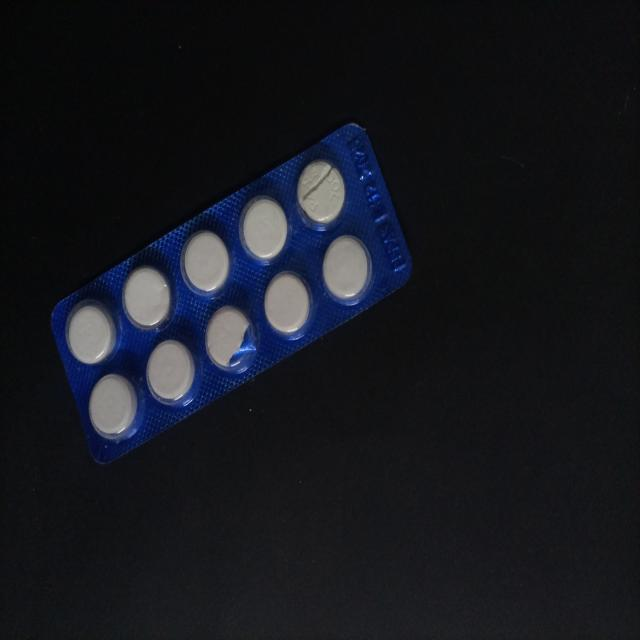defect: (203, 303, 260, 377), (295, 156, 348, 230)
